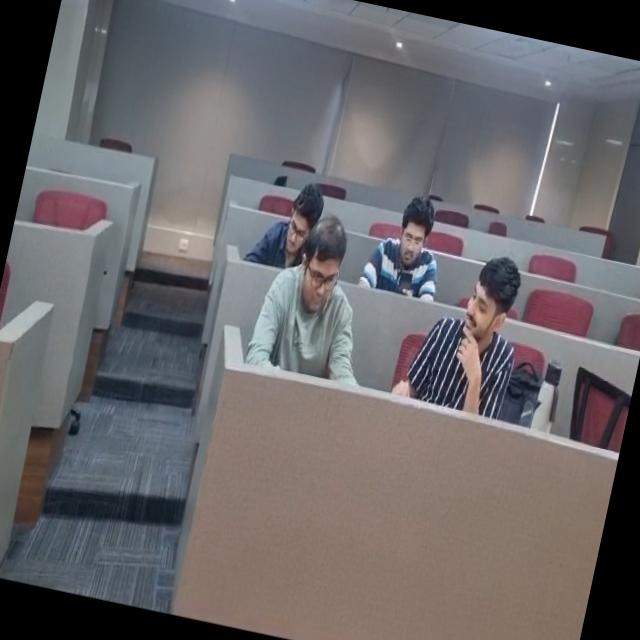cheating: (423, 256, 534, 414), (359, 195, 450, 307)
non-cheating: (252, 234, 390, 380), (244, 178, 318, 270)
